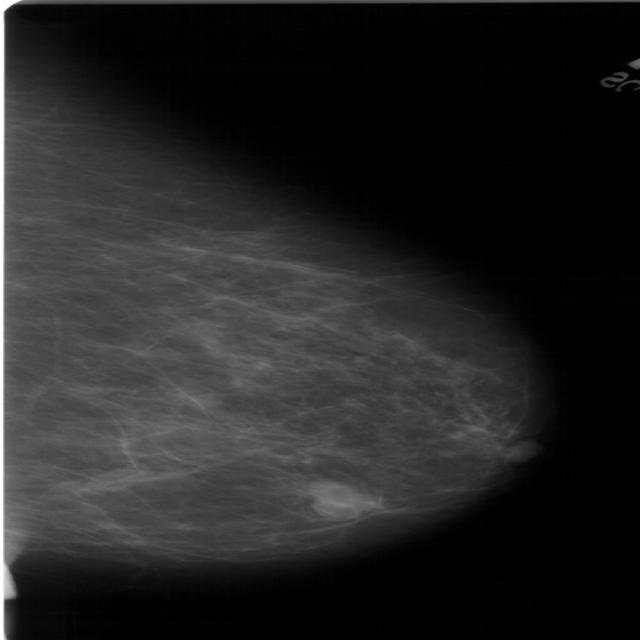tumour: (303, 478, 382, 520)
